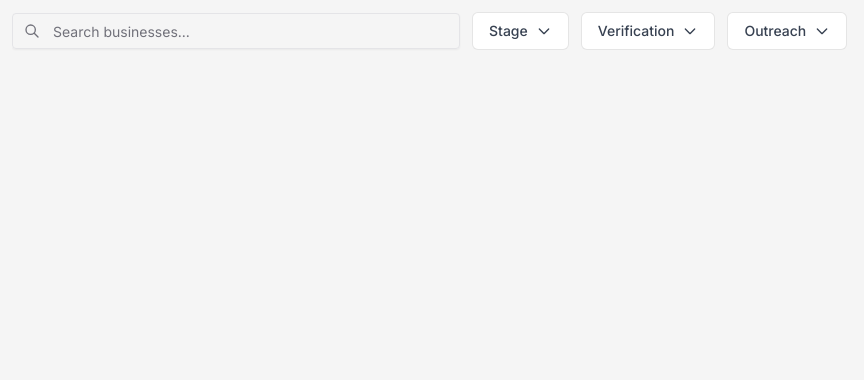
Test case: FilterBar - Keyboard Navigation › closes dropdown with Escape key
Click the button "Stage" at [520, 31], box [472,12,569,50]
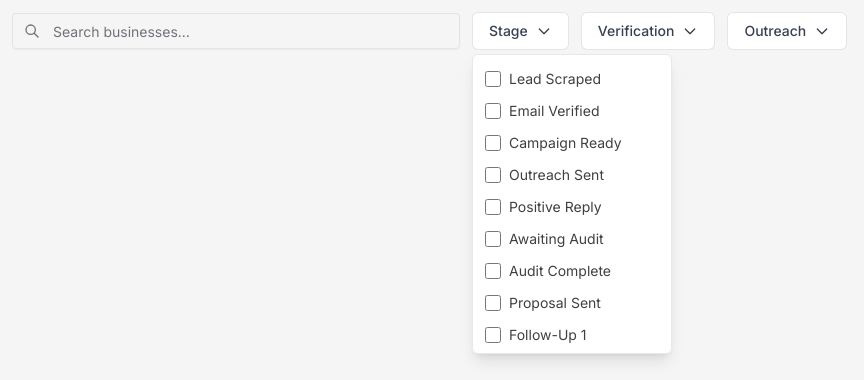
Result: the text "Lead Scraped" is shown at [509,69,601,89]
Press Escape
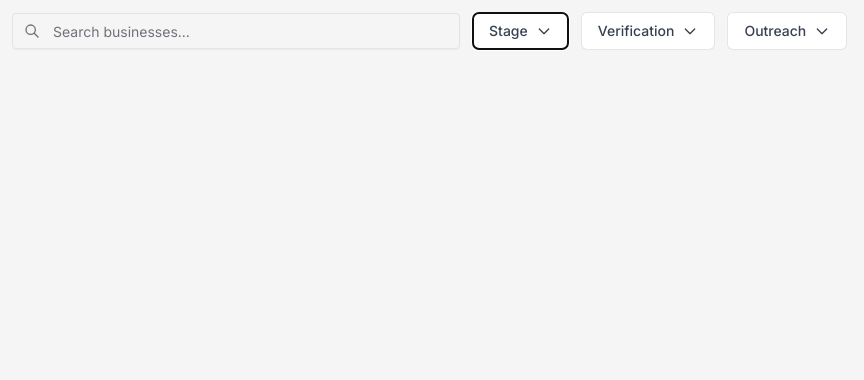
Result: the menu item "Lead Scraped" is gone
